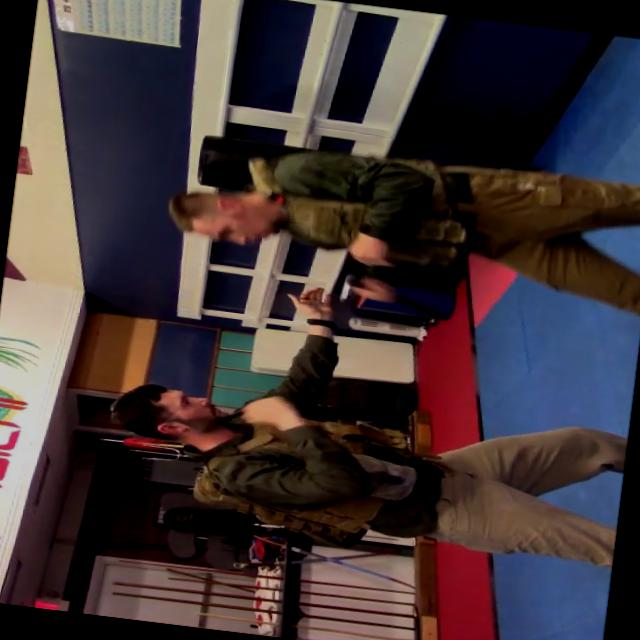knife: (342, 272, 444, 324)
